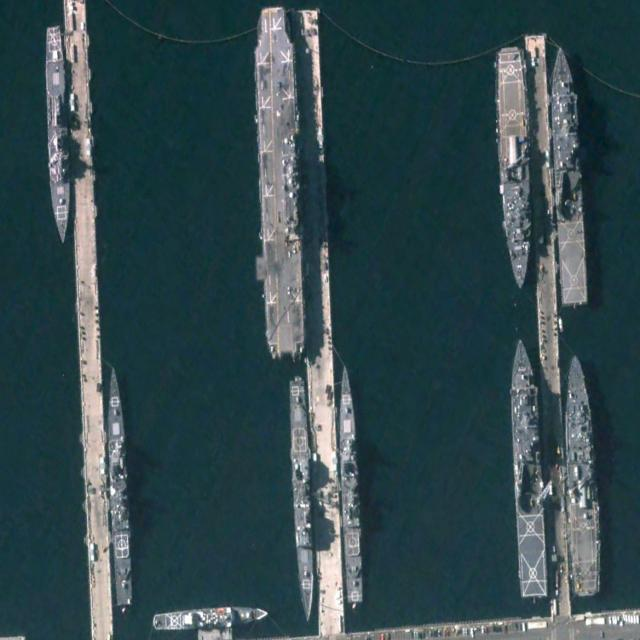Cruiser: (103, 363, 135, 606), (289, 374, 316, 625), (336, 363, 363, 605)
Destroyer: (44, 26, 71, 245)
Landing: (247, 6, 307, 358), (546, 41, 590, 307), (506, 336, 549, 598), (562, 351, 603, 598), (494, 45, 534, 291)
Other Ship: (152, 604, 268, 632)
